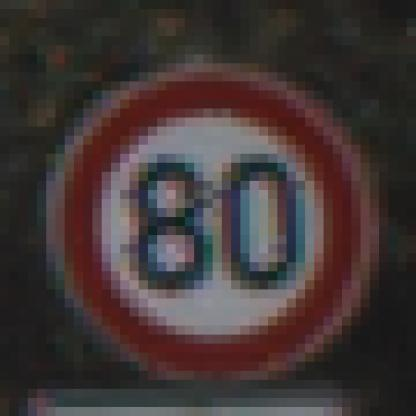Speed Limit 80: (58, 74, 367, 381)
